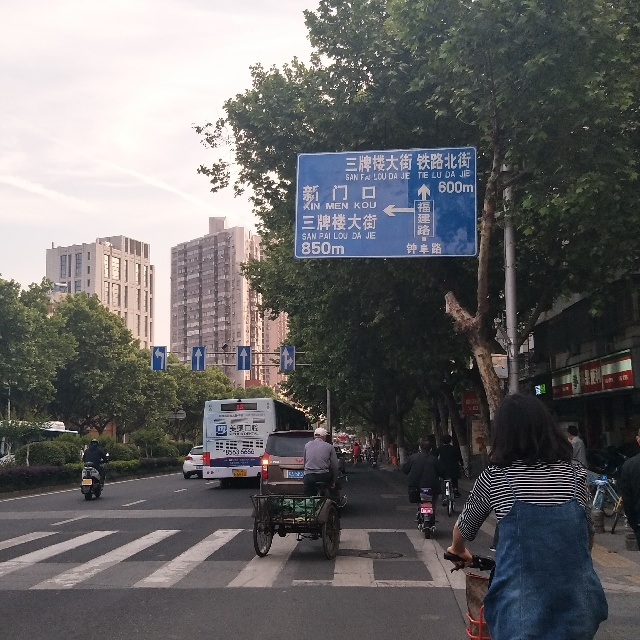left: (147, 344, 167, 372)
straight: (190, 343, 206, 372), (237, 345, 250, 373)
